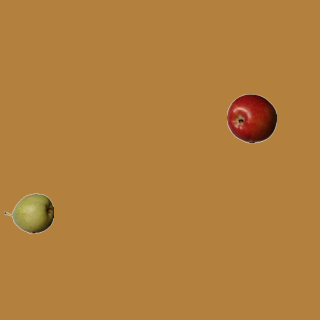Apple Braeburn: (226, 93, 276, 143)
Pear: (3, 188, 53, 238)
